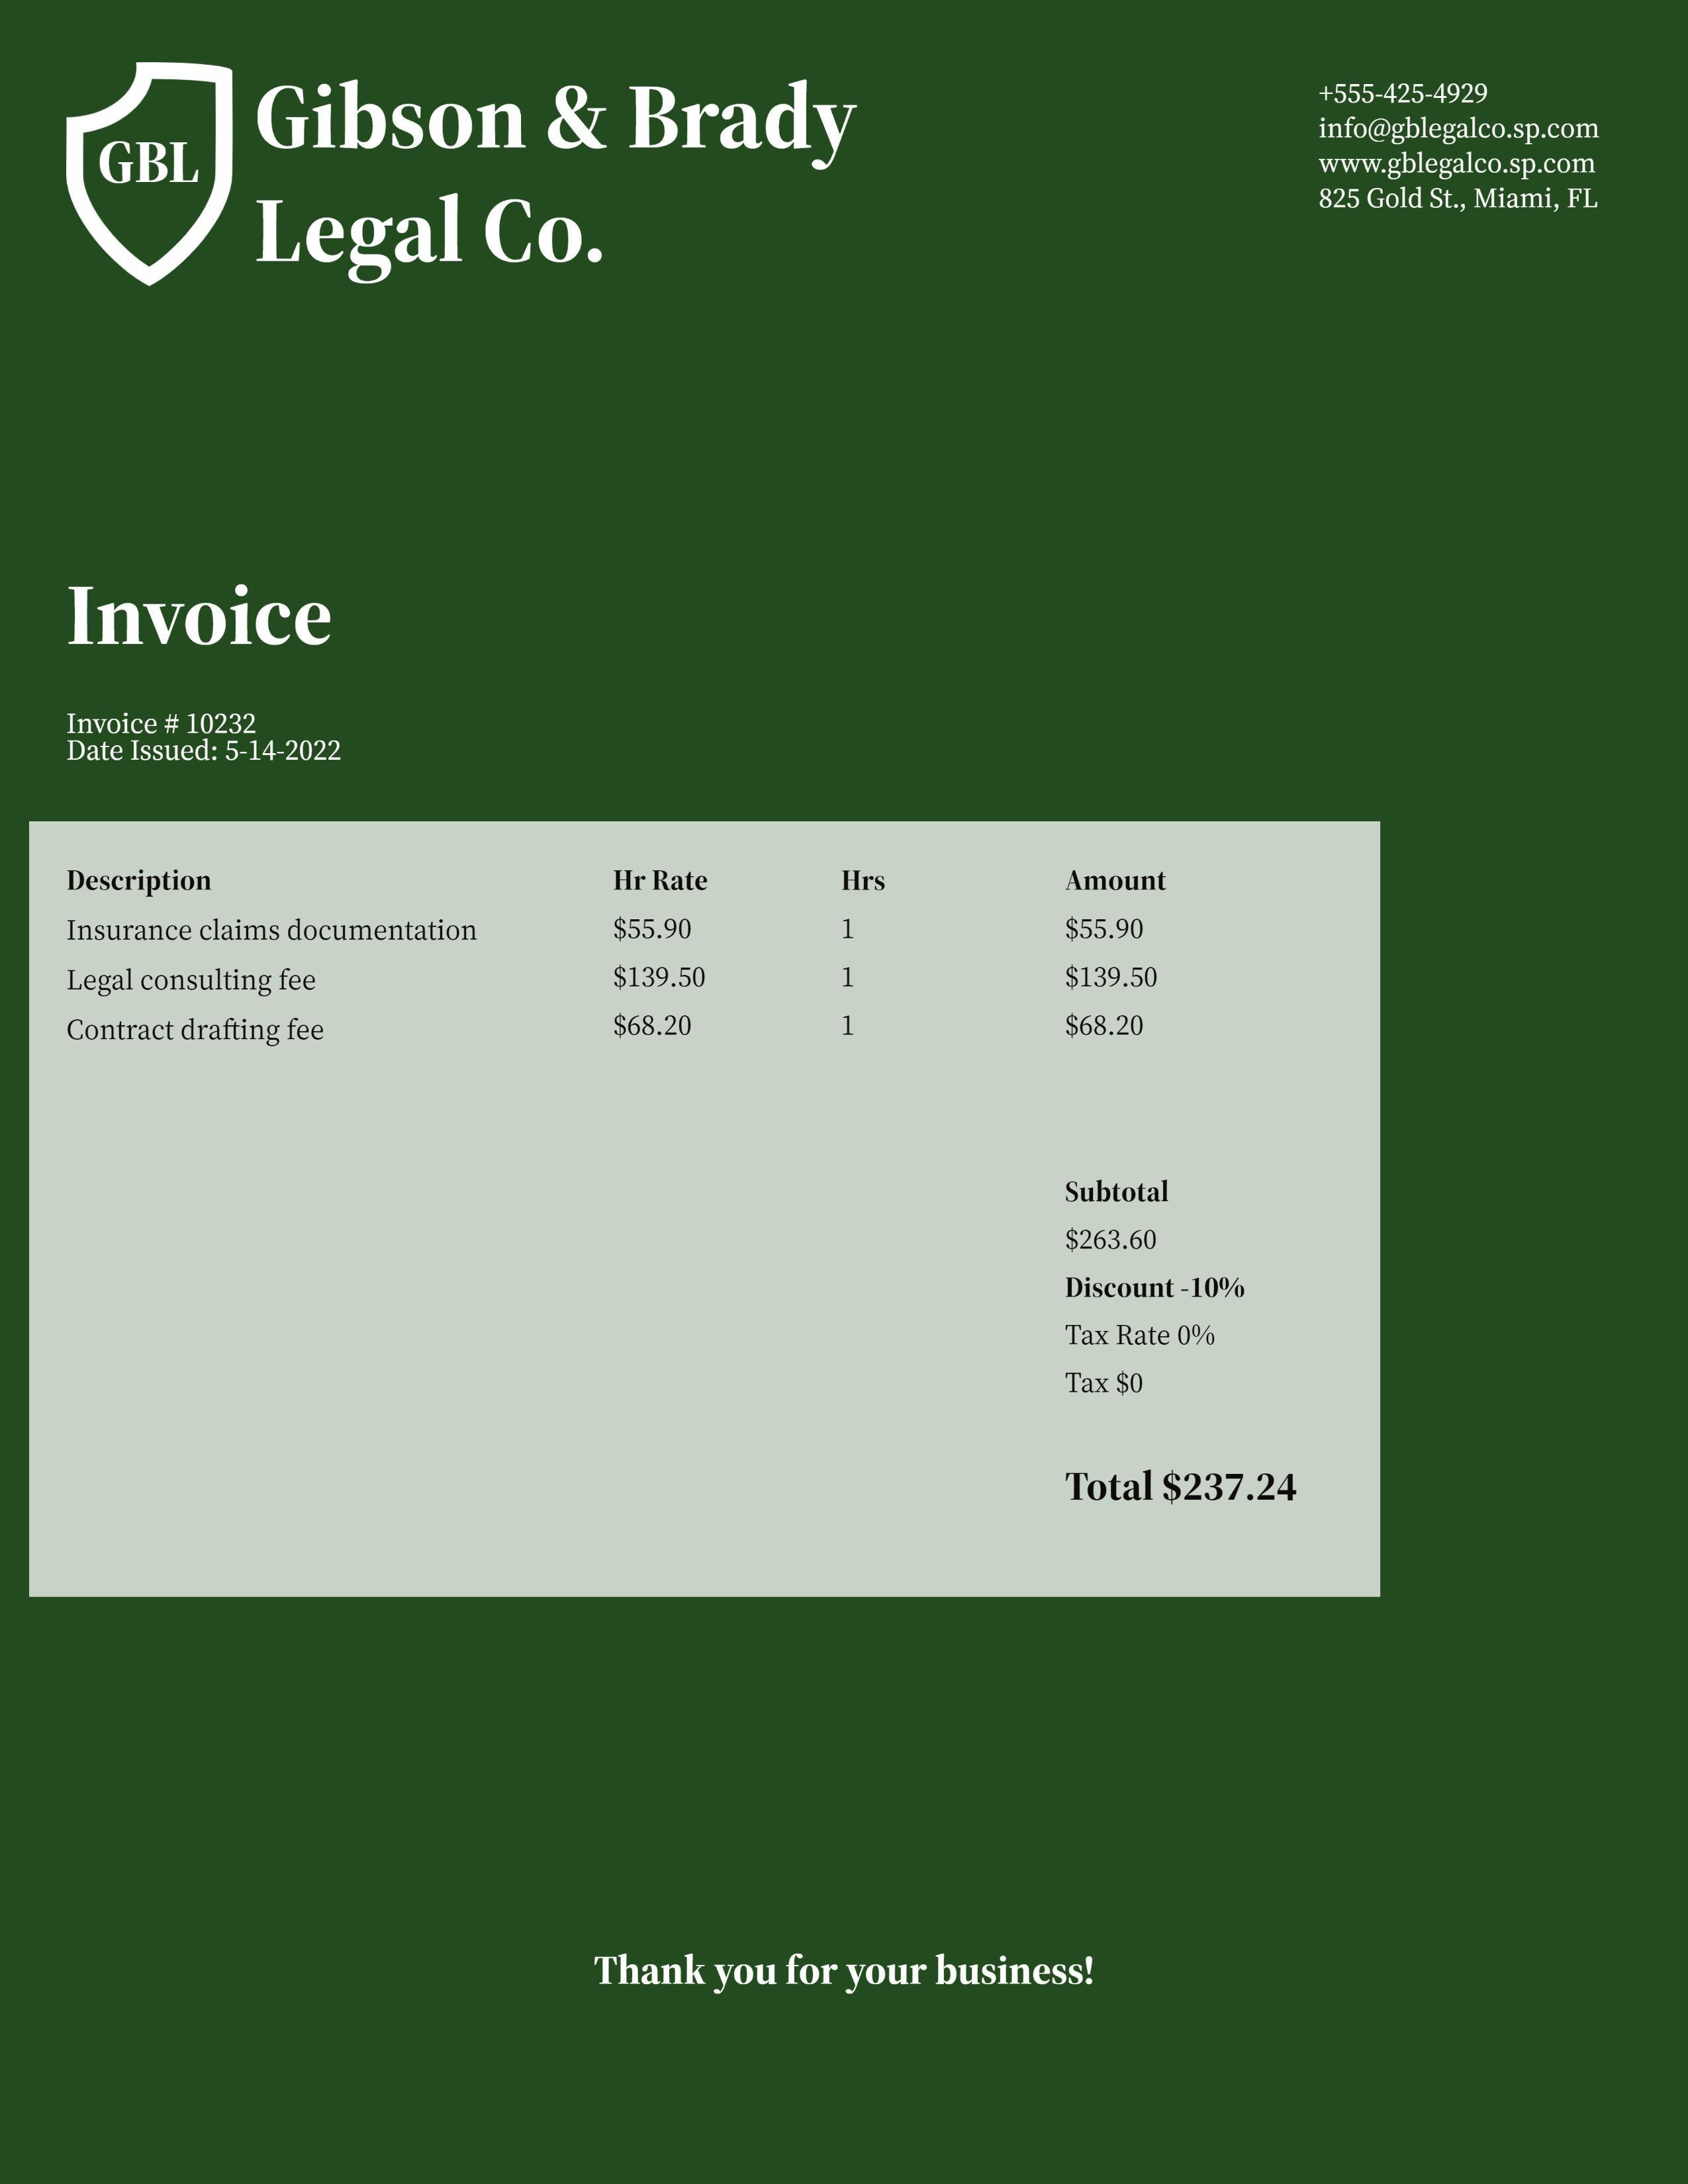ROI: (46, 839, 1193, 1112), (248, 68, 937, 297), (1010, 1154, 1342, 1536), (31, 565, 422, 788)
